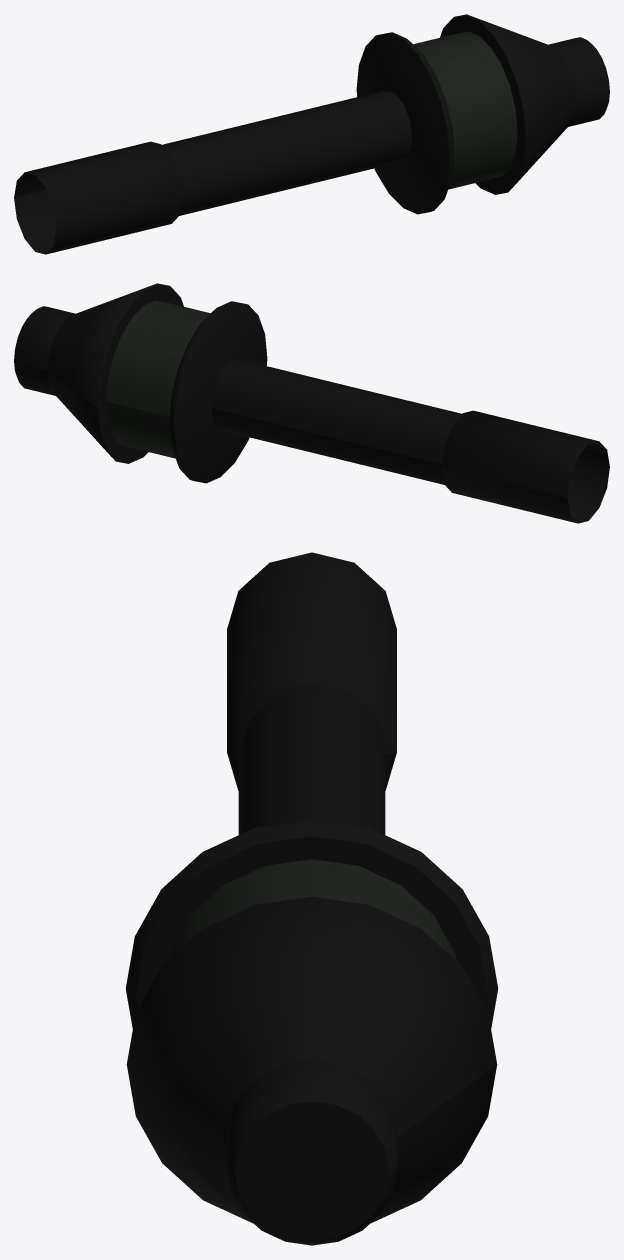
Rendered from cP_GroundLight01.dae.
3 renders of one model, top to bottom at view 1: azimuth 30°, elevation 25°; view 2: azimuth 150°, elevation 25°; view 3: azimuth 270°, elevation 25°, orthographic. The views are drawn at different scales.
Visible parts, largest first — view 1: cP_GroundLight01.001; view 2: cP_GroundLight01.001; view 3: cP_GroundLight01.001.
Boxes of the visible parts, x1=… form: cP_GroundLight01.001: x1=14, y1=14, x2=609, y2=254; cP_GroundLight01.001: x1=14, y1=283, x2=609, y2=523; cP_GroundLight01.001: x1=125, y1=552, x2=498, y2=1245.
Bounding box in the file's own units: 0.343 × 0.0996 × 0.0996.
